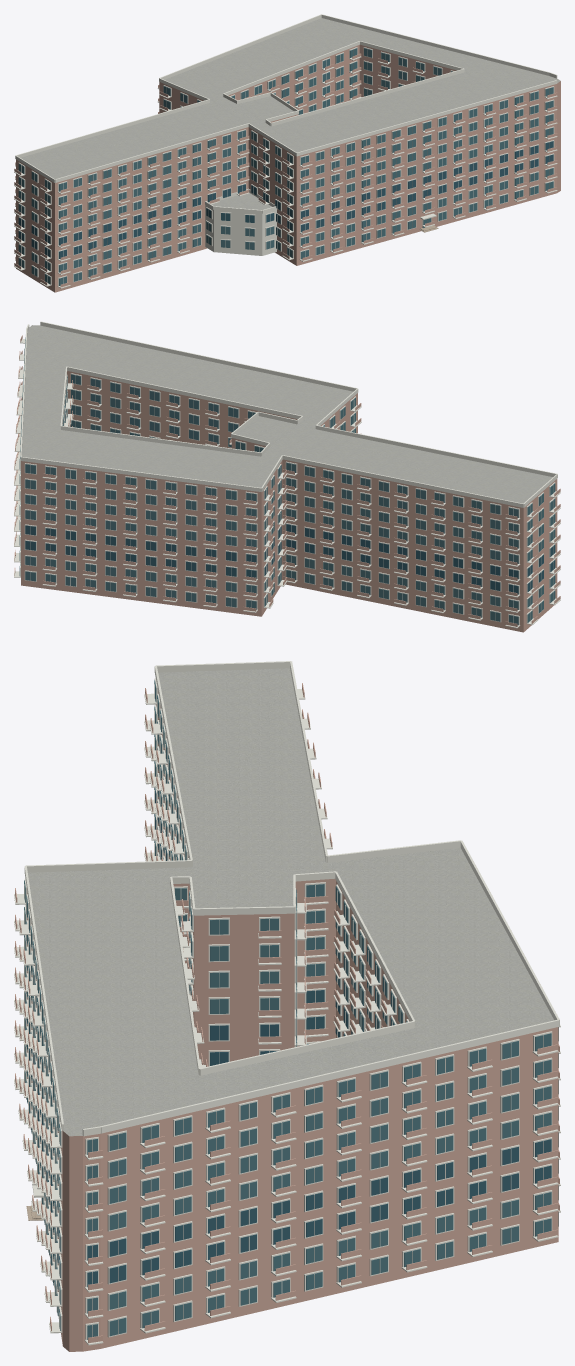
The model's file is chunk-p2-p0.glb.
3 renders of one model, top to bottom at view 1: azimuth 30°, elevation 25°; view 2: azimuth 150°, elevation 25°; view 3: azimuth 270°, elevation 25°, orthographic. The views are drawn at different scales.
Parts seen in each view (by area): view 1: chunk-p2-p0; view 2: chunk-p2-p0; view 3: chunk-p2-p0.
Boxes of the visible parts, x1,y1,x2,y2 form: chunk-p2-p0: (14, 14, 560, 292); chunk-p2-p0: (14, 321, 560, 632); chunk-p2-p0: (14, 661, 560, 1351).
Size of the model in its own units: 128 by 27.7 by 61.82.
Materials: 6 (2 with a texture image).
